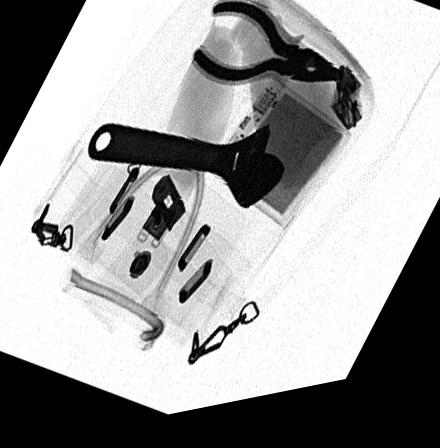Pliers: (190, 8, 349, 95)
Powerbank: (207, 84, 354, 241)
Wrench: (88, 127, 287, 216)
